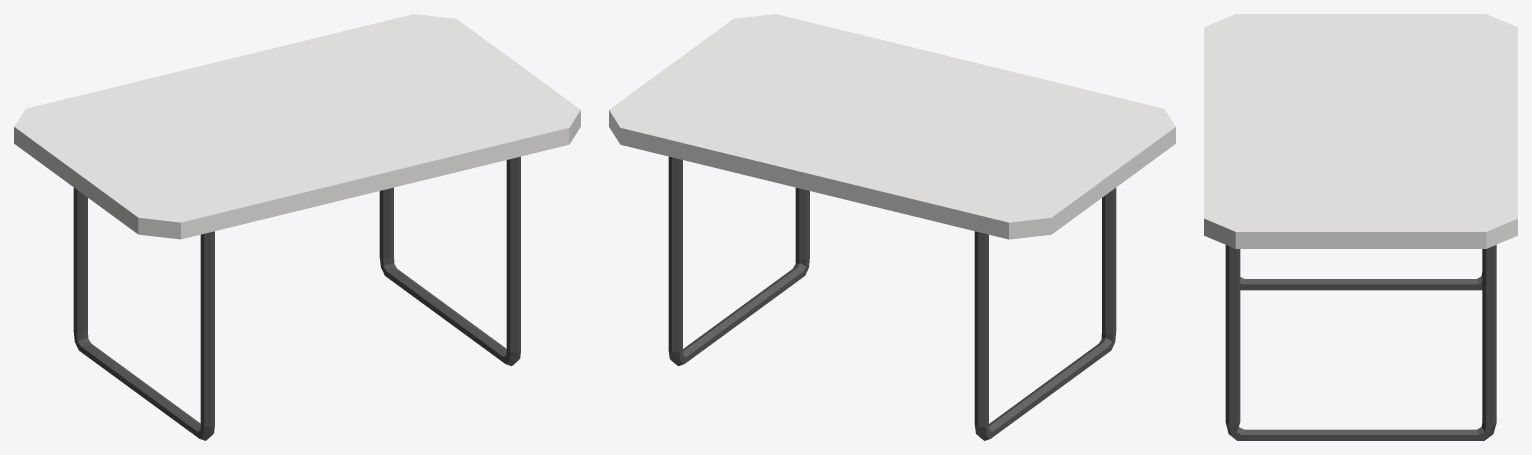
The model's file is Table_3.fbx.
The picture shows the model from 3 angles, left to right: view 1: azimuth 30°, elevation 25°; view 2: azimuth 150°, elevation 25°; view 3: azimuth 270°, elevation 25°; orthographic projection.
Parts seen in each view (by area): view 1: Table_3; view 2: Table_3; view 3: Table_3.
Boxes of the visible parts, x1=… form: Table_3: x1=14, y1=14, x2=580, y2=440; Table_3: x1=609, y1=14, x2=1175, y2=440; Table_3: x1=1204, y1=14, x2=1517, y2=440.
Bounding box in the file's own units: 183 × 111 × 95.11.
